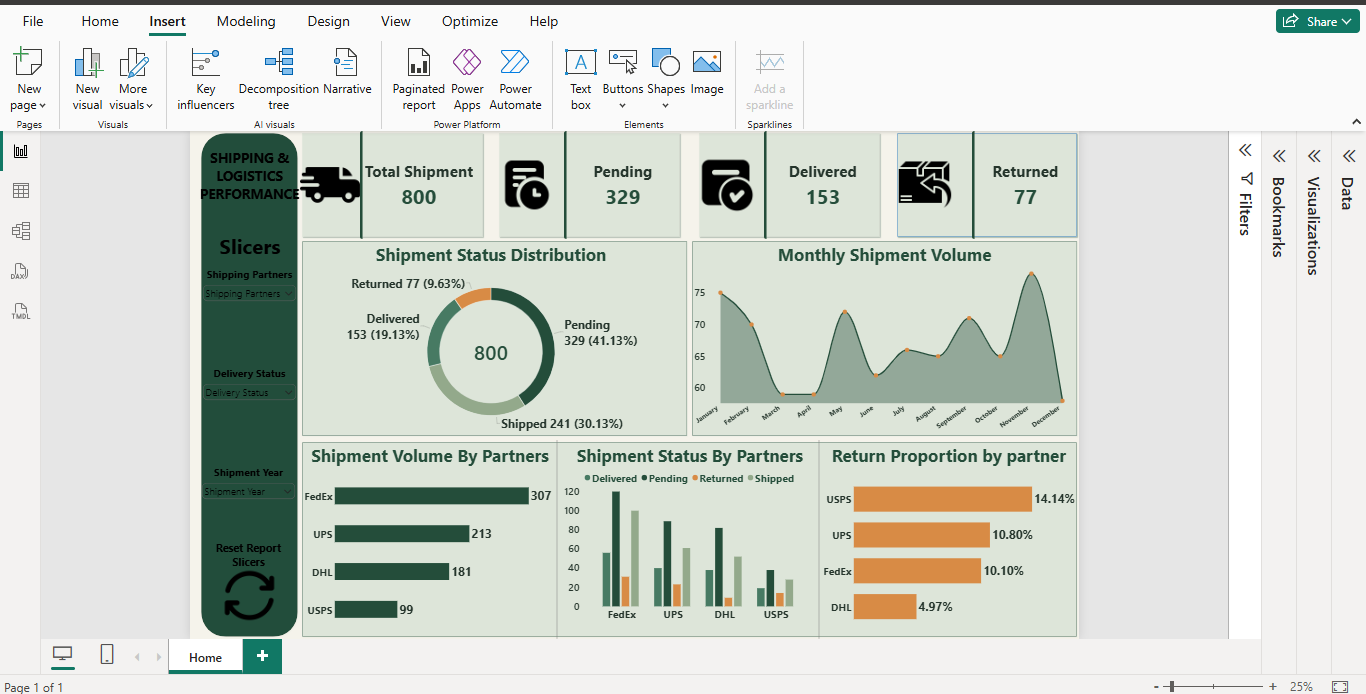

This screenshot's page, from the dashboard's own definition file:
{"tool":"powerbi","page":{"name":"Home","canvas":[3500,2000],"ordinal":0},"visuals":[{"type":"shape","box":[35.4,0,397.6,2000],"z":0},{"type":"textbox","box":[35.4,66.9,397.6,283.5],"z":1000},{"type":"shape","box":[433.1,0,728.3,425.2],"z":2000},{"type":"shape","box":[1208.7,0,728,425.2],"z":3000},{"type":"shape","box":[1996.1,0,728,425.2],"z":4000},{"type":"shape","box":[2775.6,0,725,425.2],"z":5000},{"type":"cardVisual","fields":{"Data":["All Measures.Total shipment"]},"box":[669.3,0,464.6,425.2],"z":6000},{"type":"cardVisual","fields":{"Data":["All Measures.Pending"]},"box":[1472.4,0,464.6,425.2],"z":7000},{"type":"cardVisual","fields":{"Data":["All Measures.Delivered"]},"box":[2259.8,0,464.6,425.2],"z":8000},{"type":"cardVisual","fields":{"Data":["All Measures.Returned"]},"box":[3078.7,0,421.3,425.2],"z":9000},{"type":"image","box":[433.1,0,236.2,425.2],"z":10000},{"type":"image","box":[1208.7,0,236.2,425.2],"z":11000},{"type":"image","box":[1996.1,0,236.2,425.2],"z":12000},{"type":"image","box":[2775.6,0,236.2,425.2],"z":13000},{"type":"shape","box":[433.1,425.2,1533,784],"z":14000},{"type":"shape","box":[433.1,1216.5,3066.9,783.5],"z":15000},{"type":"shape","box":[1968.5,425.2,1533,784],"z":16000},{"type":"areaChart","title":"Monthly Shipment Volume","fields":{"Category":["e-commerce-logistics-analytics-v3-csv-shipments.shipment_date.Variation.Date Hierarchy.Year","e-commerce-logistics-analytics-v3-csv-shipments.shipment_date.Variation.Date Hierarchy.Quarter","e-commerce-logistics-analytics-v3-csv-shipments.shipment_date.Variation.Date Hierarchy.Month","e-commerce-logistics-analytics-v3-csv-shipments.shipment_date.Variation.Date Hierarchy.Day"],"Y":["All Measures.Total shipment"]},"box":[1968.5,425.2,1531.5,783.5],"z":17000},{"type":"donutChart","title":"Shipment Status Distribution","fields":{"Category":["e-commerce-logistics-analytics-v3-csv-shipments.delivery_status"],"Y":["All Measures.Total shipment"]},"box":[433.1,425.2,1503.9,783.5],"z":18000},{"type":"barChart","title":"Shipment Volume By Partners","fields":{"Category":["e-commerce-logistics-analytics-v3-csv-shipments.shipping_partner"],"Y":["All Measures.Total shipment"]},"box":[433.1,1216.5,1023.6,783.5],"z":19000},{"type":"shape","box":[1295.3,1216.5,299.2,783.5],"z":20000},{"type":"clusteredColumnChart","title":"Shipment Status By Partners","fields":{"Category":["e-commerce-logistics-analytics-v3-csv-shipments.shipping_partner"],"Series":["e-commerce-logistics-analytics-v3-csv-shipments.delivery_status"],"Y":["All Measures.Total shipment"]},"box":[1456.7,1216.5,1023,733],"z":21000},{"type":"barChart","title":"Return Proportion by partner","fields":{"Category":["e-commerce-logistics-analytics-v3-csv-shipments.shipping_partner"],"Y":["All Measures.Return Proportion"]},"box":[2476.4,1216.5,1023,783.5],"z":21001},{"type":"shape","box":[2326.8,1216.5,299.2,783.5],"z":21002},{"type":"textbox","box":[86.6,397.6,299.2,126],"z":21003},{"type":"listSlicer","title":"Shipping Partners","fields":{"Values":["e-commerce-logistics-analytics-v3-csv-shipments.shipping_partner"]},"box":[35.4,523.6,397.6,389.8],"z":21004},{"type":"listSlicer","title":"Delivery Status","fields":{"Values":["e-commerce-logistics-analytics-v3-csv-shipments.delivery_status"]},"box":[35.4,913.4,397.6,389.8],"z":21005},{"type":"image","box":[86.6,1712.6,295.3,232.3],"z":21006},{"type":"textbox","box":[78.7,1610.2,303.1,114.2],"z":21007},{"type":"listSlicer","title":"Shipment Year","fields":{"Values":["e-commerce-logistics-analytics-v3-csv-shipments.shipment_date.Variation.Date Hierarchy.Year"]},"box":[31.5,1303.1,397.6,389.8],"z":21008}]}

Visuals, with their boxes on the page's 3500x2000 design canvas (x1, y1, x2, y2). These are canvas units, not pixel positions in the 1366x694 screenshot, which may show the page scaled, cropped or inside an application window:
shape: <box>35,0,433,2000</box>
textbox: <box>35,67,433,350</box>
shape: <box>433,0,1161,425</box>
shape: <box>1209,0,1937,425</box>
shape: <box>1996,0,2724,425</box>
shape: <box>2776,0,3501,425</box>
cardVisual - All Measures.Total shipment: <box>669,0,1134,425</box>
cardVisual - All Measures.Pending: <box>1472,0,1937,425</box>
cardVisual - All Measures.Delivered: <box>2260,0,2724,425</box>
cardVisual - All Measures.Returned: <box>3079,0,3500,425</box>
image: <box>433,0,669,425</box>
image: <box>1209,0,1445,425</box>
image: <box>1996,0,2232,425</box>
image: <box>2776,0,3012,425</box>
shape: <box>433,425,1966,1209</box>
shape: <box>433,1216,3500,2000</box>
shape: <box>1968,425,3502,1209</box>
"Monthly Shipment Volume" areaChart: <box>1968,425,3500,1209</box>
"Shipment Status Distribution" donutChart: <box>433,425,1937,1209</box>
"Shipment Volume By Partners" barChart: <box>433,1216,1457,2000</box>
shape: <box>1295,1216,1594,2000</box>
"Shipment Status By Partners" clusteredColumnChart: <box>1457,1216,2480,1950</box>
"Return Proportion by partner" barChart: <box>2476,1216,3499,2000</box>
shape: <box>2327,1216,2626,2000</box>
textbox: <box>87,398,386,524</box>
"Shipping Partners" listSlicer: <box>35,524,433,913</box>
"Delivery Status" listSlicer: <box>35,913,433,1303</box>
image: <box>87,1713,382,1945</box>
textbox: <box>79,1610,382,1724</box>
"Shipment Year" listSlicer: <box>32,1303,429,1693</box>
